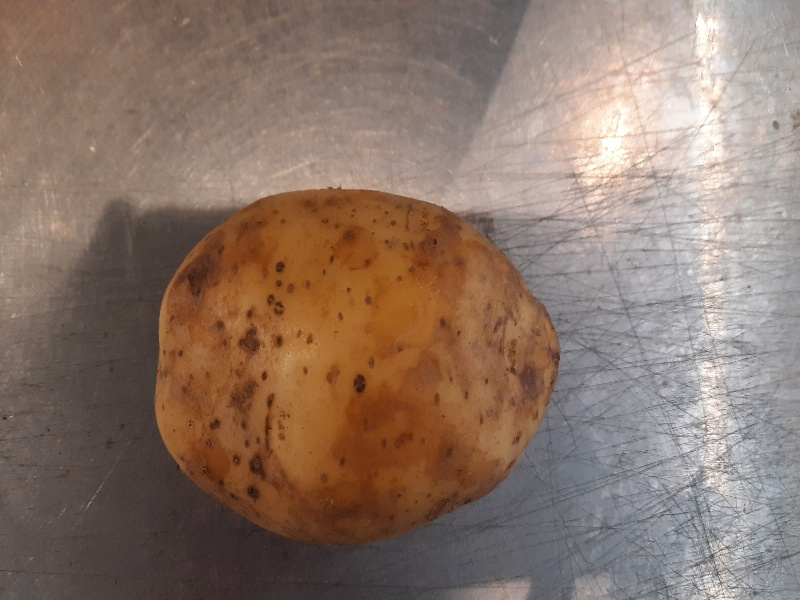vege: (147, 184, 562, 559)
